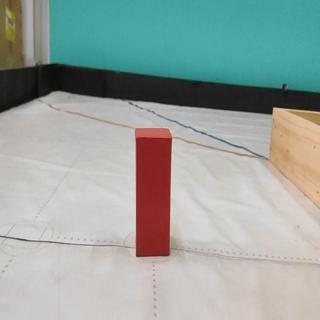redbox: (133, 125, 174, 259)
